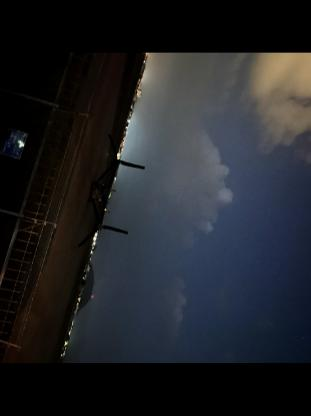Tornado: (78, 134, 146, 248)
